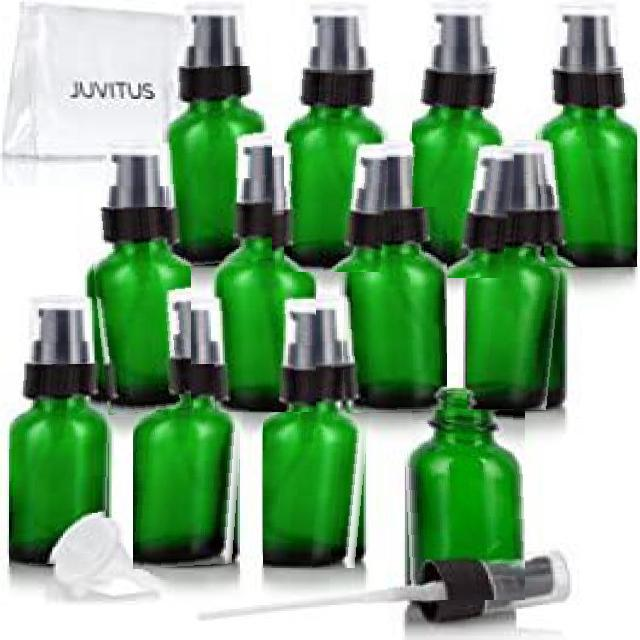Glass: (402, 388, 525, 600), (412, 64, 523, 278), (133, 364, 247, 570), (263, 364, 374, 568), (338, 207, 447, 413), (162, 66, 272, 268), (284, 70, 392, 272), (88, 207, 192, 415), (212, 209, 316, 412), (532, 66, 637, 267), (9, 364, 111, 567), (467, 207, 567, 410)
